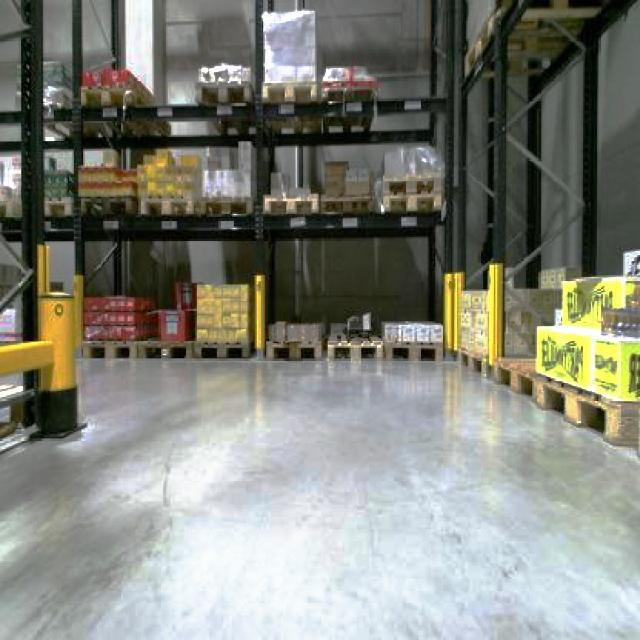ground: (0, 352, 638, 638)
pallet: (55, 77, 446, 357), (445, 257, 638, 463), (80, 317, 443, 360), (78, 277, 255, 358), (263, 318, 443, 360), (0, 335, 54, 474), (192, 280, 251, 357)
